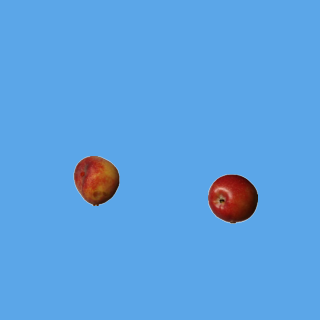Apple Braeburn: (207, 173, 257, 223)
Peach: (71, 155, 121, 205)
